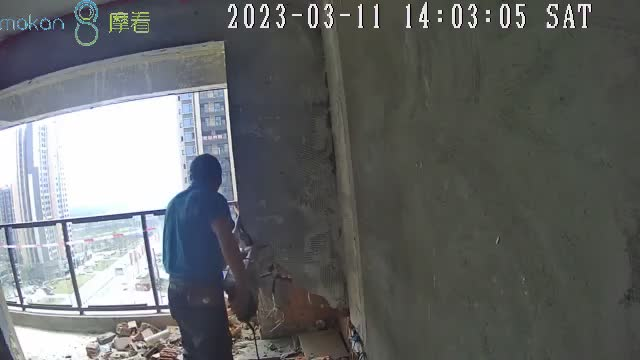people: (164, 152, 255, 360)
window: (2, 89, 246, 316)
